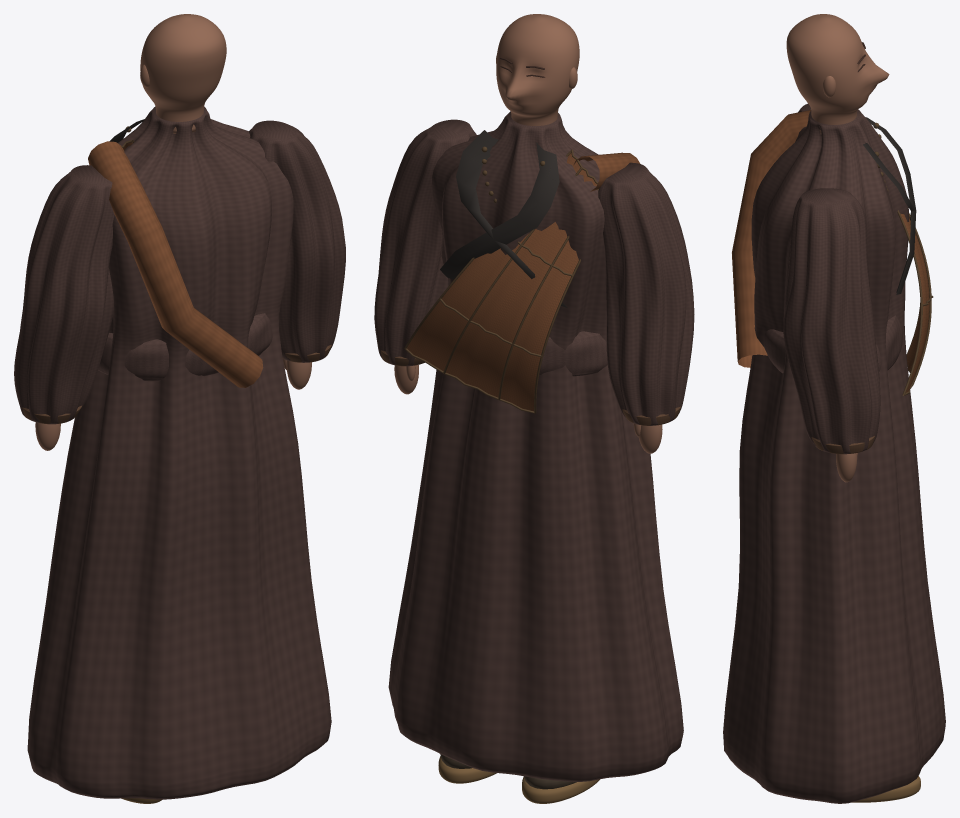
The model's file is Kukai.glb.
3 views of the same model, side by side, from view 1: azimuth 30°, elevation 25°; view 2: azimuth 150°, elevation 25°; view 3: azimuth 270°, elevation 25° (orthographic). The views are drawn at different scales.
Parts seen in each view (by area): view 1: Kukai; view 2: Kukai; view 3: Kukai.
Boxes of the visible parts, <box> form: Kukai: <box>14,14,345,803</box>; Kukai: <box>374,14,694,803</box>; Kukai: <box>723,14,945,803</box>.
Size of the model in its own units: 0.7303 by 1.7 by 0.4572.
Materials: 9 (6 with a texture image).
